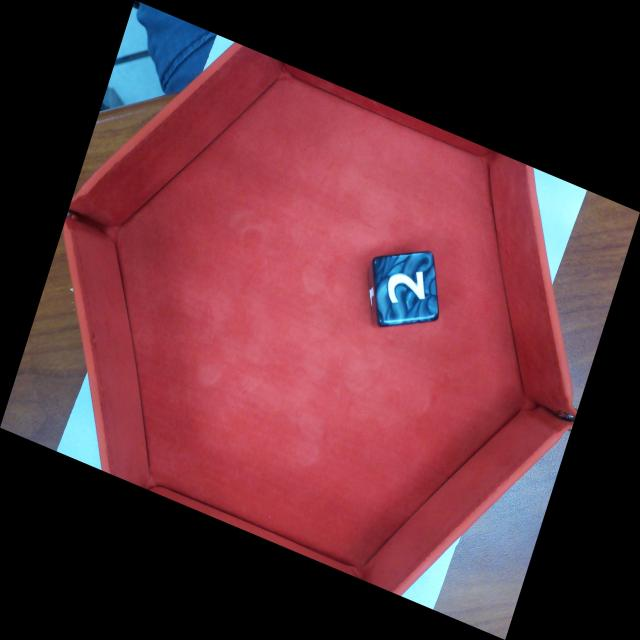dice: (377, 255, 437, 328)
